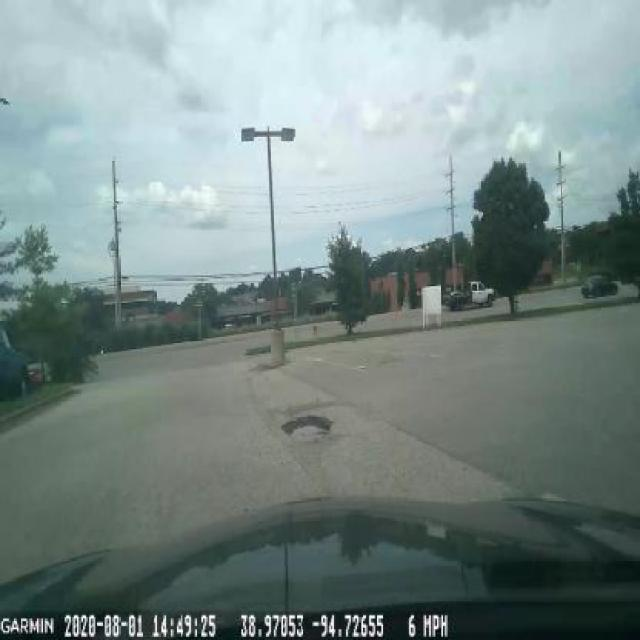Pothole: (274, 401, 338, 453)
